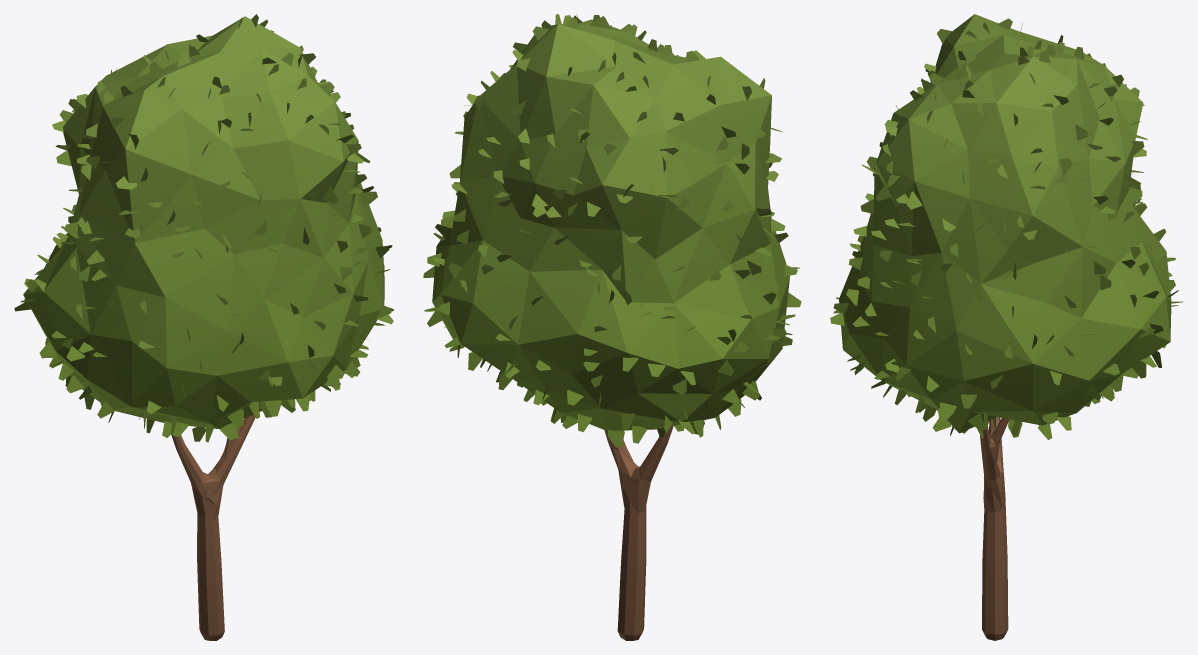
The model's file is Plant_08.fbx.
The picture shows the model from 3 angles, left to right: view 1: azimuth 30°, elevation 25°; view 2: azimuth 150°, elevation 25°; view 3: azimuth 270°, elevation 25°; orthographic projection. The views are drawn at different scales.
Visible parts, largest first — view 1: Plant_08_LOD0; view 2: Plant_08_LOD0; view 3: Plant_08_LOD0.
Part boxes in pixels (box(x1,y1,x2,y2)): Plant_08_LOD0: box(14, 14, 394, 640); Plant_08_LOD0: box(423, 14, 801, 640); Plant_08_LOD0: box(830, 14, 1182, 640).
Size of what is drawn, in the model's own units: 0.8584 by 1.51 by 0.7891.
